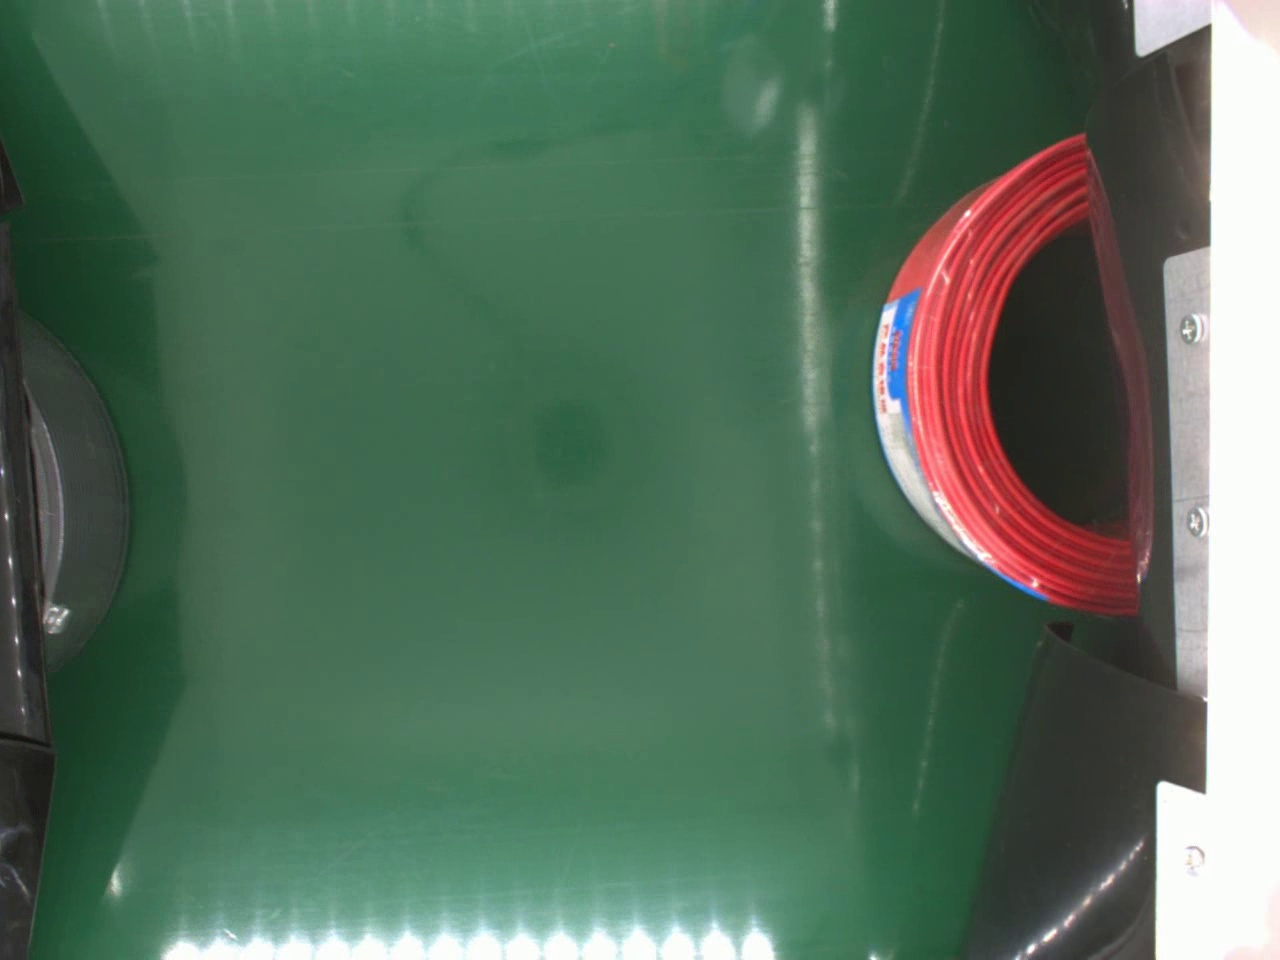red: (869, 135, 1147, 618)
